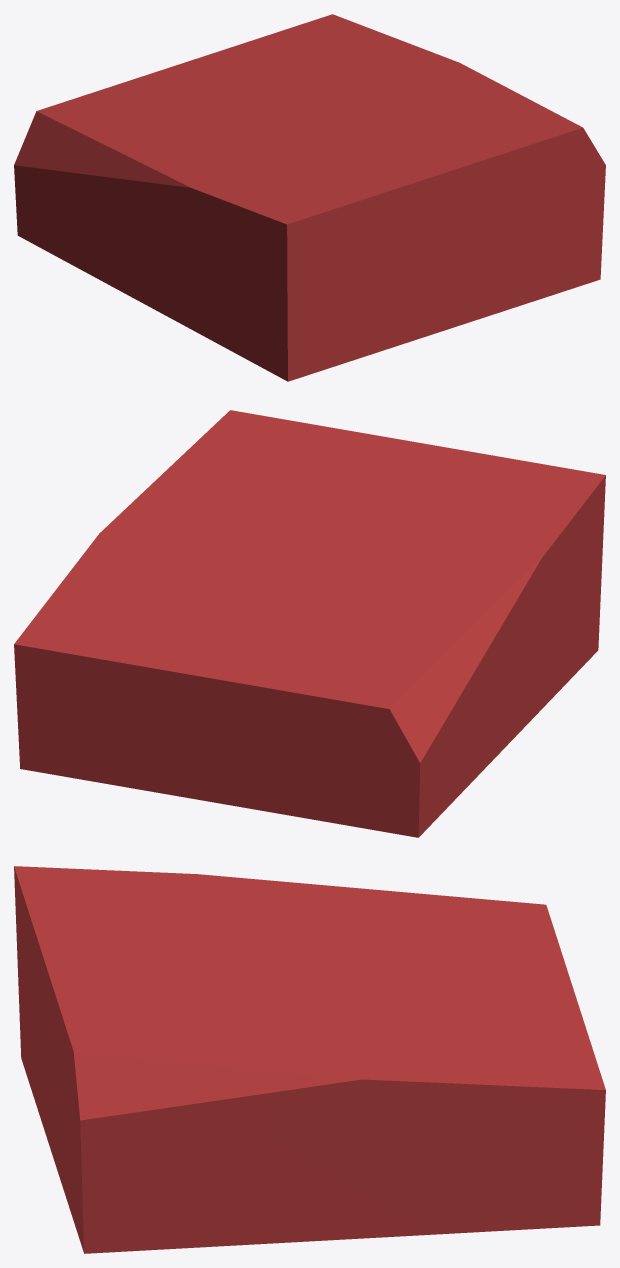
Rendered from ea_arch_wall03_rubble_01b_pre__20__5_lev1.glb.
3 views of the same model, one above another, from view 1: azimuth 30°, elevation 25°; view 2: azimuth 150°, elevation 25°; view 3: azimuth 270°, elevation 25° (orthographic). The views are drawn at different scales.
Parts seen in each view (by area): view 1: ea_arch_wall03_rubble_01b_pre__20__5_lev1; view 2: ea_arch_wall03_rubble_01b_pre__20__5_lev1; view 3: ea_arch_wall03_rubble_01b_pre__20__5_lev1.
Boxes of the visible parts, box(x1,y1,x2,y2) form: ea_arch_wall03_rubble_01b_pre__20__5_lev1: box(14, 14, 605, 381); ea_arch_wall03_rubble_01b_pre__20__5_lev1: box(14, 410, 605, 837); ea_arch_wall03_rubble_01b_pre__20__5_lev1: box(14, 866, 605, 1253).
Size of the model in its own units: 0.1797 by 0.0696 by 0.1958.
Materials: 1 (1 with a texture image).
